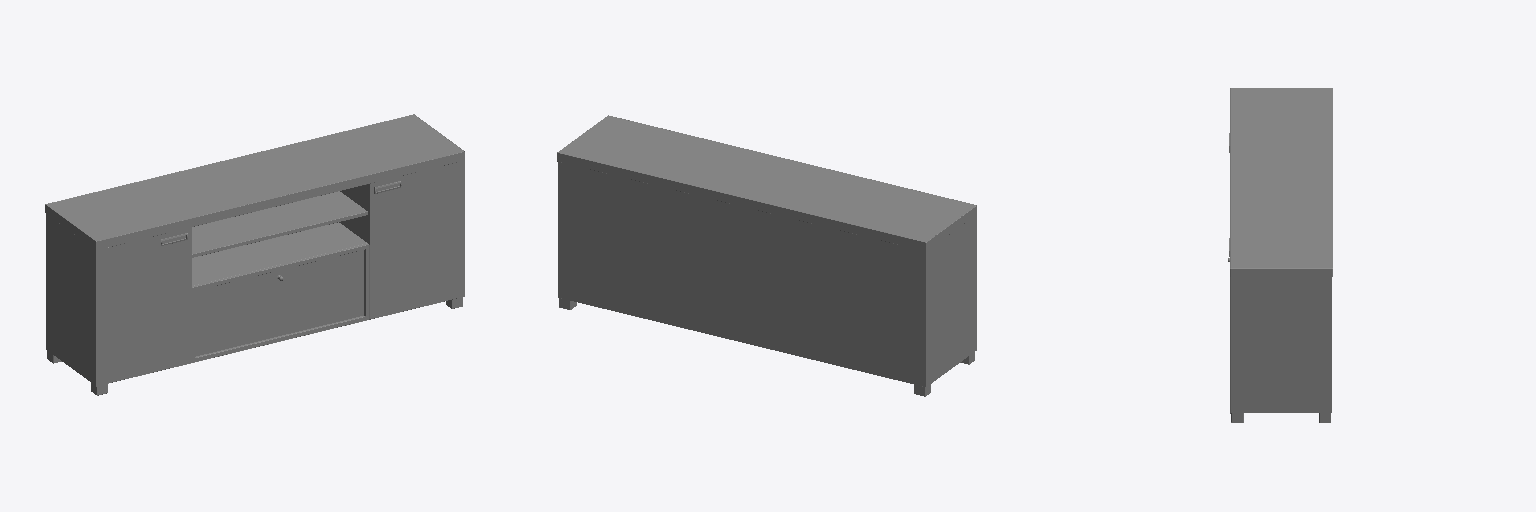
The model's file is muebleTV.obj.
3 views of the same model, side by side, from view 1: azimuth 30°, elevation 25°; view 2: azimuth 150°, elevation 25°; view 3: azimuth 270°, elevation 25° (orthographic).
Visible parts, largest first — view 1: Mebel__Edvard; view 2: Mebel__Edvard; view 3: Mebel__Edvard.
Part boxes in pixels (bbox=[...]): Mebel__Edvard: bbox=[45, 114, 464, 395]; Mebel__Edvard: bbox=[557, 115, 976, 396]; Mebel__Edvard: bbox=[1228, 88, 1332, 422].
Bounding box in the file's own units: 52.03 × 20.9 × 12.83.